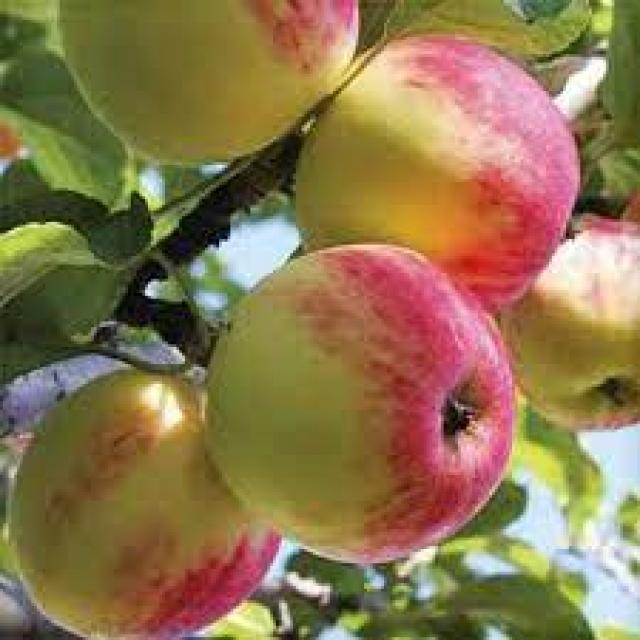apple: (202, 238, 530, 566)
